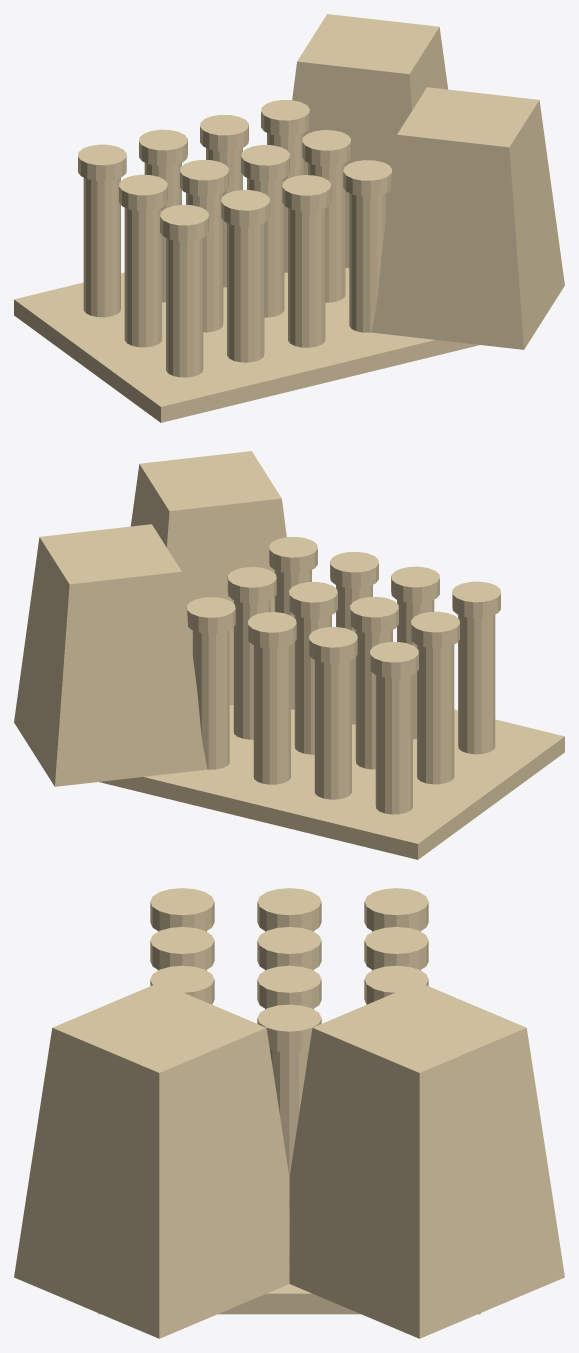
Rendered from egyptian_s3.glb.
3 renders of one model, top to bottom at view 1: azimuth 30°, elevation 25°; view 2: azimuth 150°, elevation 25°; view 3: azimuth 270°, elevation 25°, orthographic. The views are drawn at different scales.
Parts seen in each view (by area): view 1: Cone, Cube, Cone.001, Cylinder.006, Cylinder.012, Cylinder.018, Cylinder.020, Cylinder.022, Cylinder, Cylinder.002, Cylinder.014, Cylinder.008 (+15 smaller); view 2: Cone.001, Cube, Cone, Cylinder.010, Cylinder.016, Cylinder.022, Cylinder.020, Cylinder.018, Cylinder.004, Cylinder.002, Cylinder.014, Cylinder.008 (+15 smaller); view 3: Cone, Cone.001, Cylinder.002, Cylinder.015, Cylinder.009, Cylinder.013, Cylinder.017, Cylinder.019, Cylinder.023, Cylinder.021, Cube, Cylinder.003 (+2 smaller).
Boxes of the visible parts, left/top/right/bottom form: Cone: left=371, top=87, right=564, bottom=349; Cube: left=14, top=268, right=479, bottom=422; Cone.001: left=292, top=14, right=448, bottom=268; Cylinder.006: left=288, top=208, right=325, bottom=347; Cylinder.012: left=227, top=223, right=264, bottom=362; Cylinder.018: left=166, top=238, right=203, bottom=377; Cylinder.020: left=124, top=208, right=161, bottom=347; Cylinder.022: left=83, top=177, right=120, bottom=317; Cylinder: left=349, top=193, right=386, bottom=332; Cylinder.002: left=308, top=163, right=345, bottom=302; Cylinder.014: left=186, top=193, right=223, bottom=332; Cylinder.008: left=247, top=178, right=284, bottom=317; Cone.001: left=14, top=524, right=207, bottom=786; Cube: left=99, top=705, right=564, bottom=859; Cone: left=130, top=451, right=286, bottom=705; Cylinder.010: left=253, top=645, right=290, bottom=784; Cylinder.016: left=314, top=660, right=351, bottom=799; Cylinder.022: left=375, top=675, right=412, bottom=814; Cylinder.020: left=417, top=645, right=454, bottom=784; Cylinder.018: left=458, top=614, right=495, bottom=754; Cylinder.004: left=192, top=630, right=229, bottom=769; Cylinder.002: left=233, top=600, right=270, bottom=739; Cylinder.014: left=355, top=630, right=392, bottom=769; Cylinder.008: left=294, top=615, right=331, bottom=754; Cone: left=14, top=982, right=289, bottom=1338; Cone.001: left=289, top=982, right=564, bottom=1338; Cylinder.002: left=270, top=1049, right=308, bottom=1177; Cylinder.015: left=257, top=927, right=321, bottom=969; Cylinder.009: left=257, top=965, right=321, bottom=1008; Cylinder.013: left=150, top=927, right=214, bottom=970; Cylinder.017: left=364, top=927, right=428, bottom=970; Cylinder.019: left=150, top=888, right=214, bottom=931; Cylinder.023: left=364, top=888, right=428, bottom=931; Cylinder.021: left=257, top=888, right=321, bottom=931; Cube: left=98, top=1284, right=480, bottom=1314; Cylinder.003: left=257, top=1004, right=321, bottom=1052.
Bounding box in the file's own units: 8.4 × 3.9 × 7.2.
